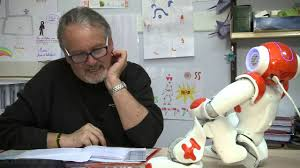nao: (158, 32, 300, 167)
